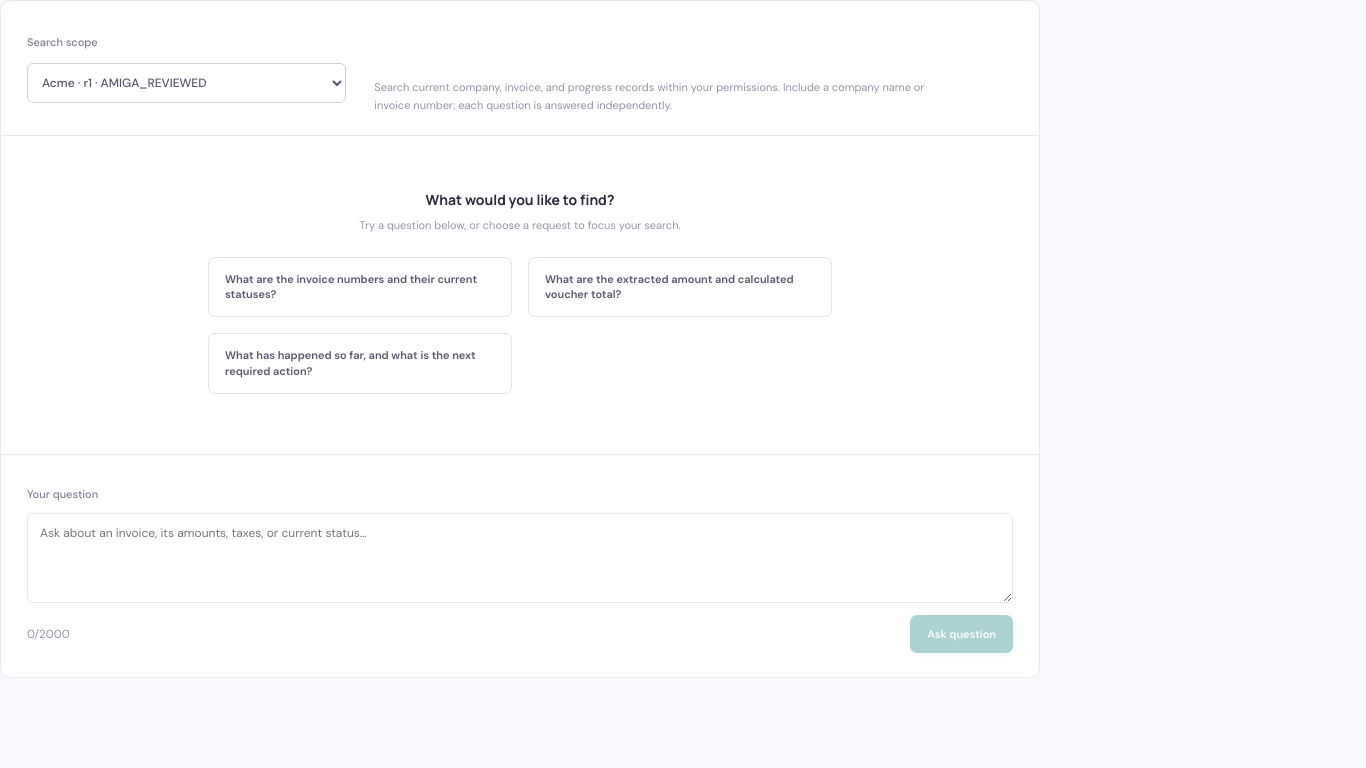
Test: sends a scoped question and renders the grounded answer
The image size is (1366, 768).
Type "Status of INV-001?" into the text box labelled "Your question". click: coordinates (520, 558)
box: x1=27 y1=513 x2=1013 y2=603
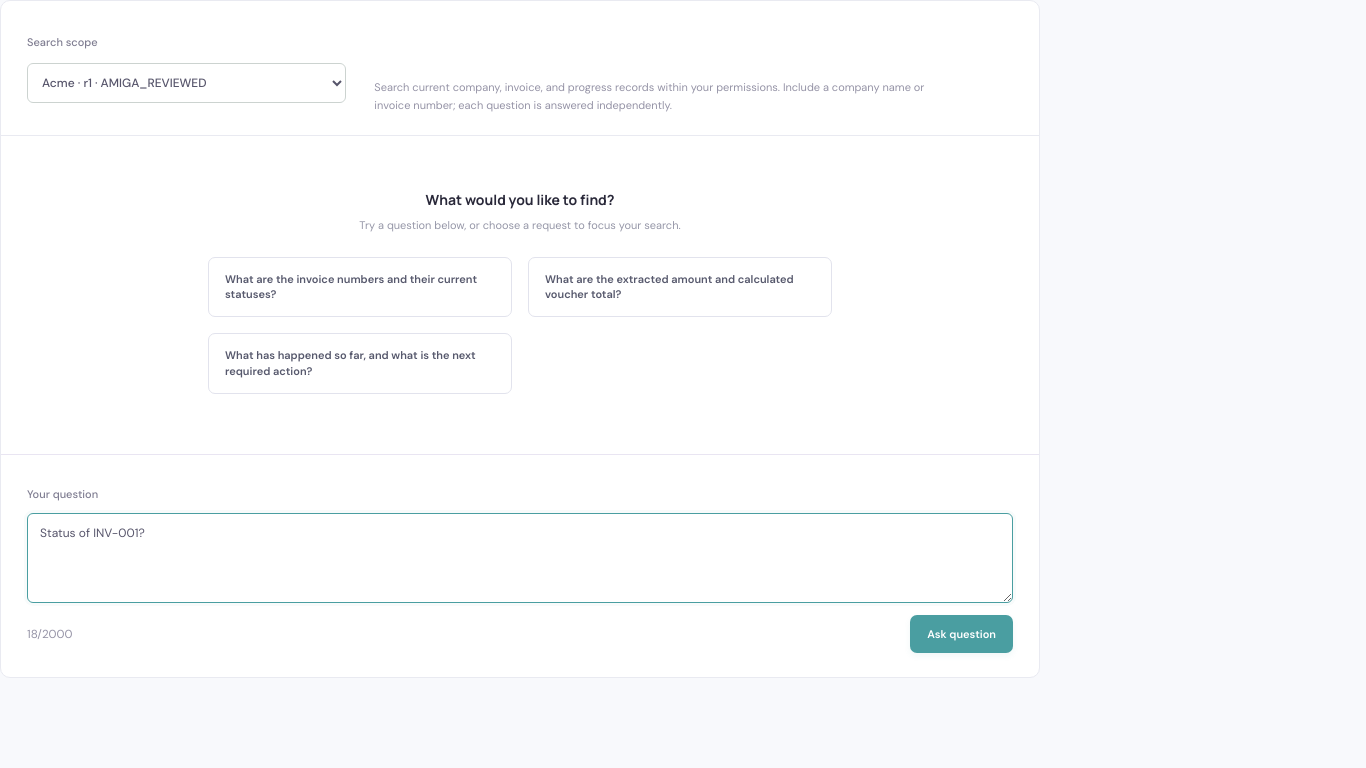
Click the button "Ask question". click: coordinates (962, 634)
box: x1=910 y1=615 x2=1013 y2=653
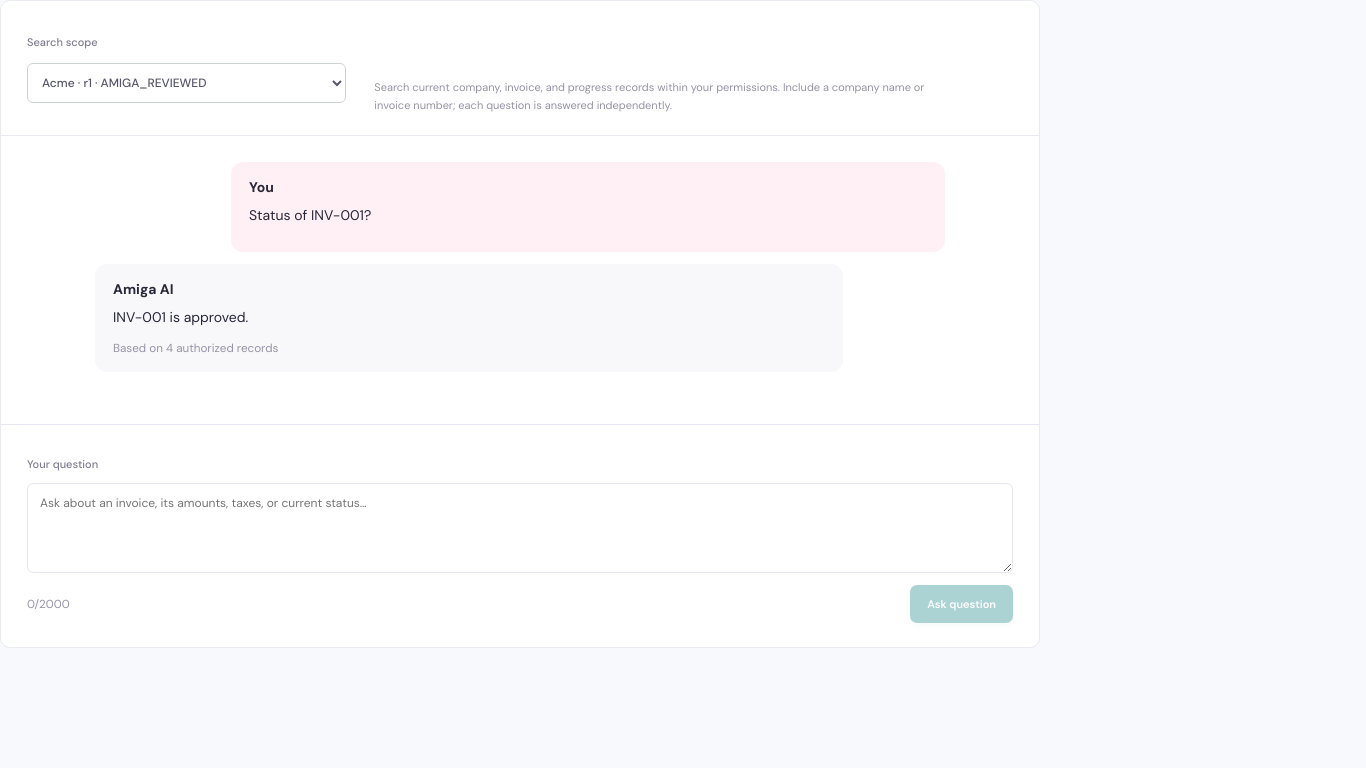
Check: the text "INV-001 is approved." is shown, box x1=113 y1=308 x2=248 y2=326
Check: the text "Based on 4 authorized records" is shown, box x1=113 y1=340 x2=278 y2=356
